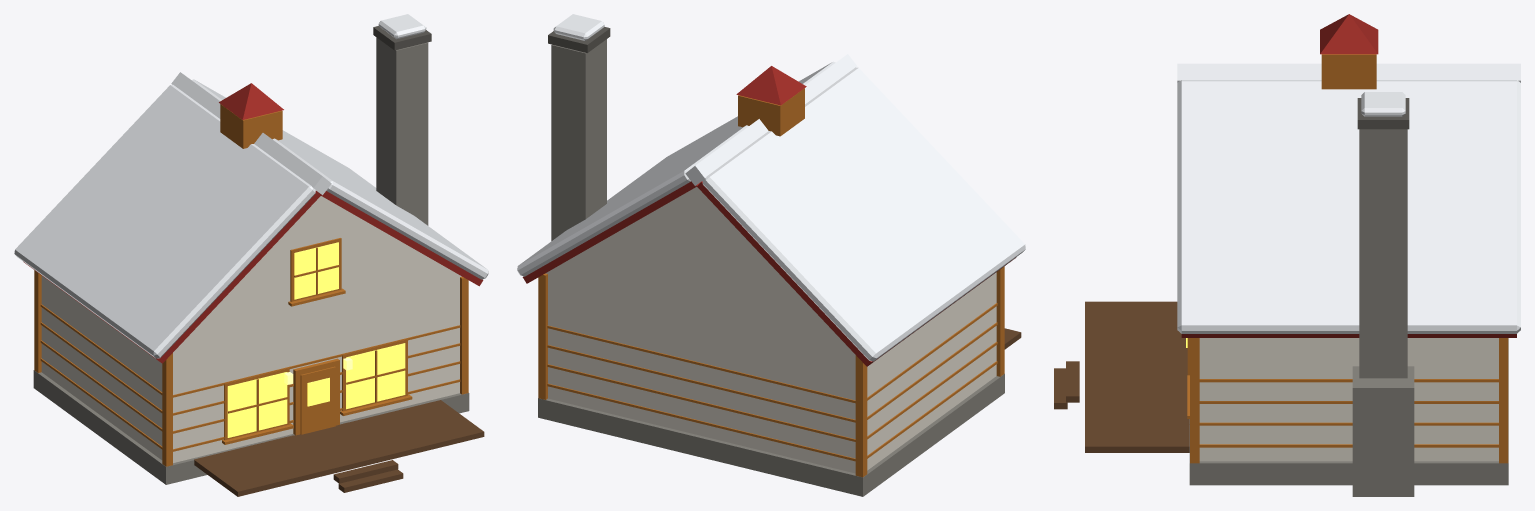
Rendered from lodge-tier-1-sugarhouse.glb.
3 renders of one model, left to right at view 1: azimuth 30°, elevation 25°; view 2: azimuth 150°, elevation 25°; view 3: azimuth 270°, elevation 25°, orthographic. The views are drawn at different scales.
Visible parts, largest first — view 1: lodge-tier-1-sugarhouse; view 2: lodge-tier-1-sugarhouse; view 3: lodge-tier-1-sugarhouse.
Part boxes in pixels (x1,y1,x2,y2): lodge-tier-1-sugarhouse: (14, 14, 488, 496); lodge-tier-1-sugarhouse: (517, 14, 1025, 496); lodge-tier-1-sugarhouse: (1054, 14, 1520, 496).
Size of the model in its own units: 14.3 by 12.64 by 13.61.
